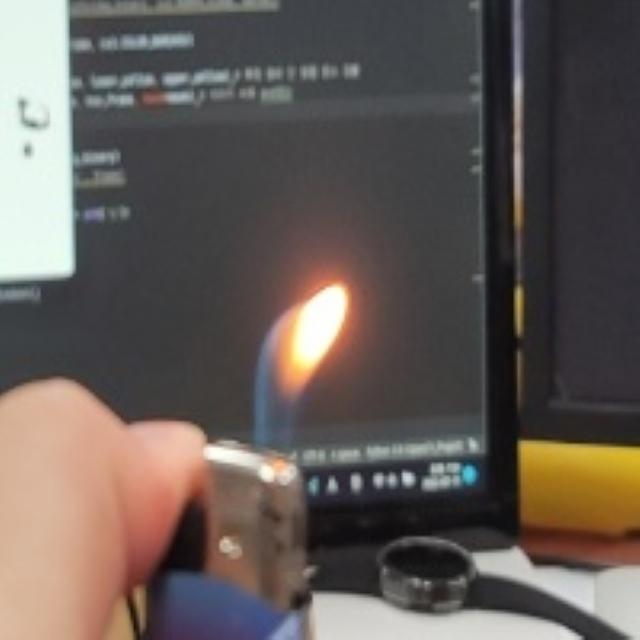Fire: (255, 273, 365, 430)
